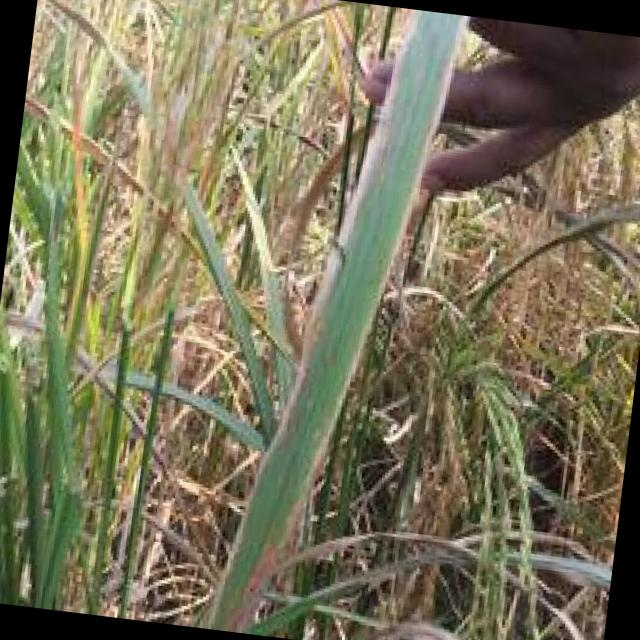Rice_Bacterial_Blight: (249, 2, 424, 532)
